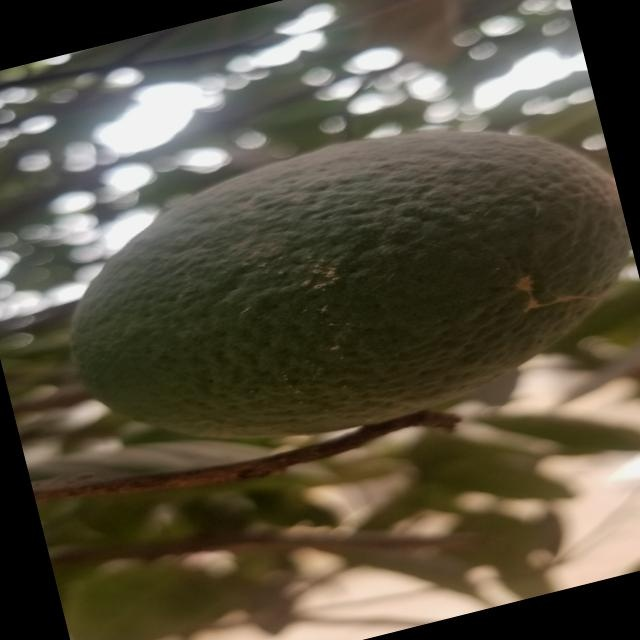agrume: (38, 79, 640, 488)
